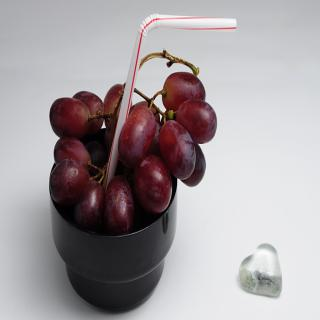Grape: (47, 84, 218, 232)
